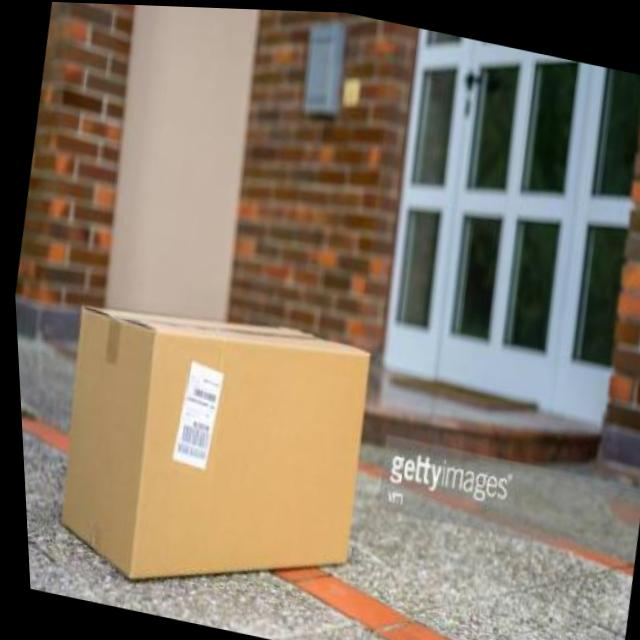box: (11, 277, 406, 640)
